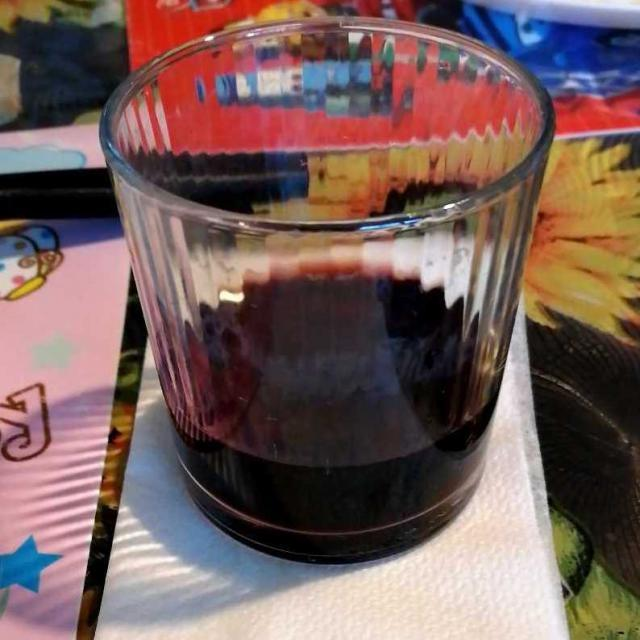wine: (162, 263, 496, 565)
